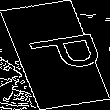P_E: (9, 31, 101, 79)
